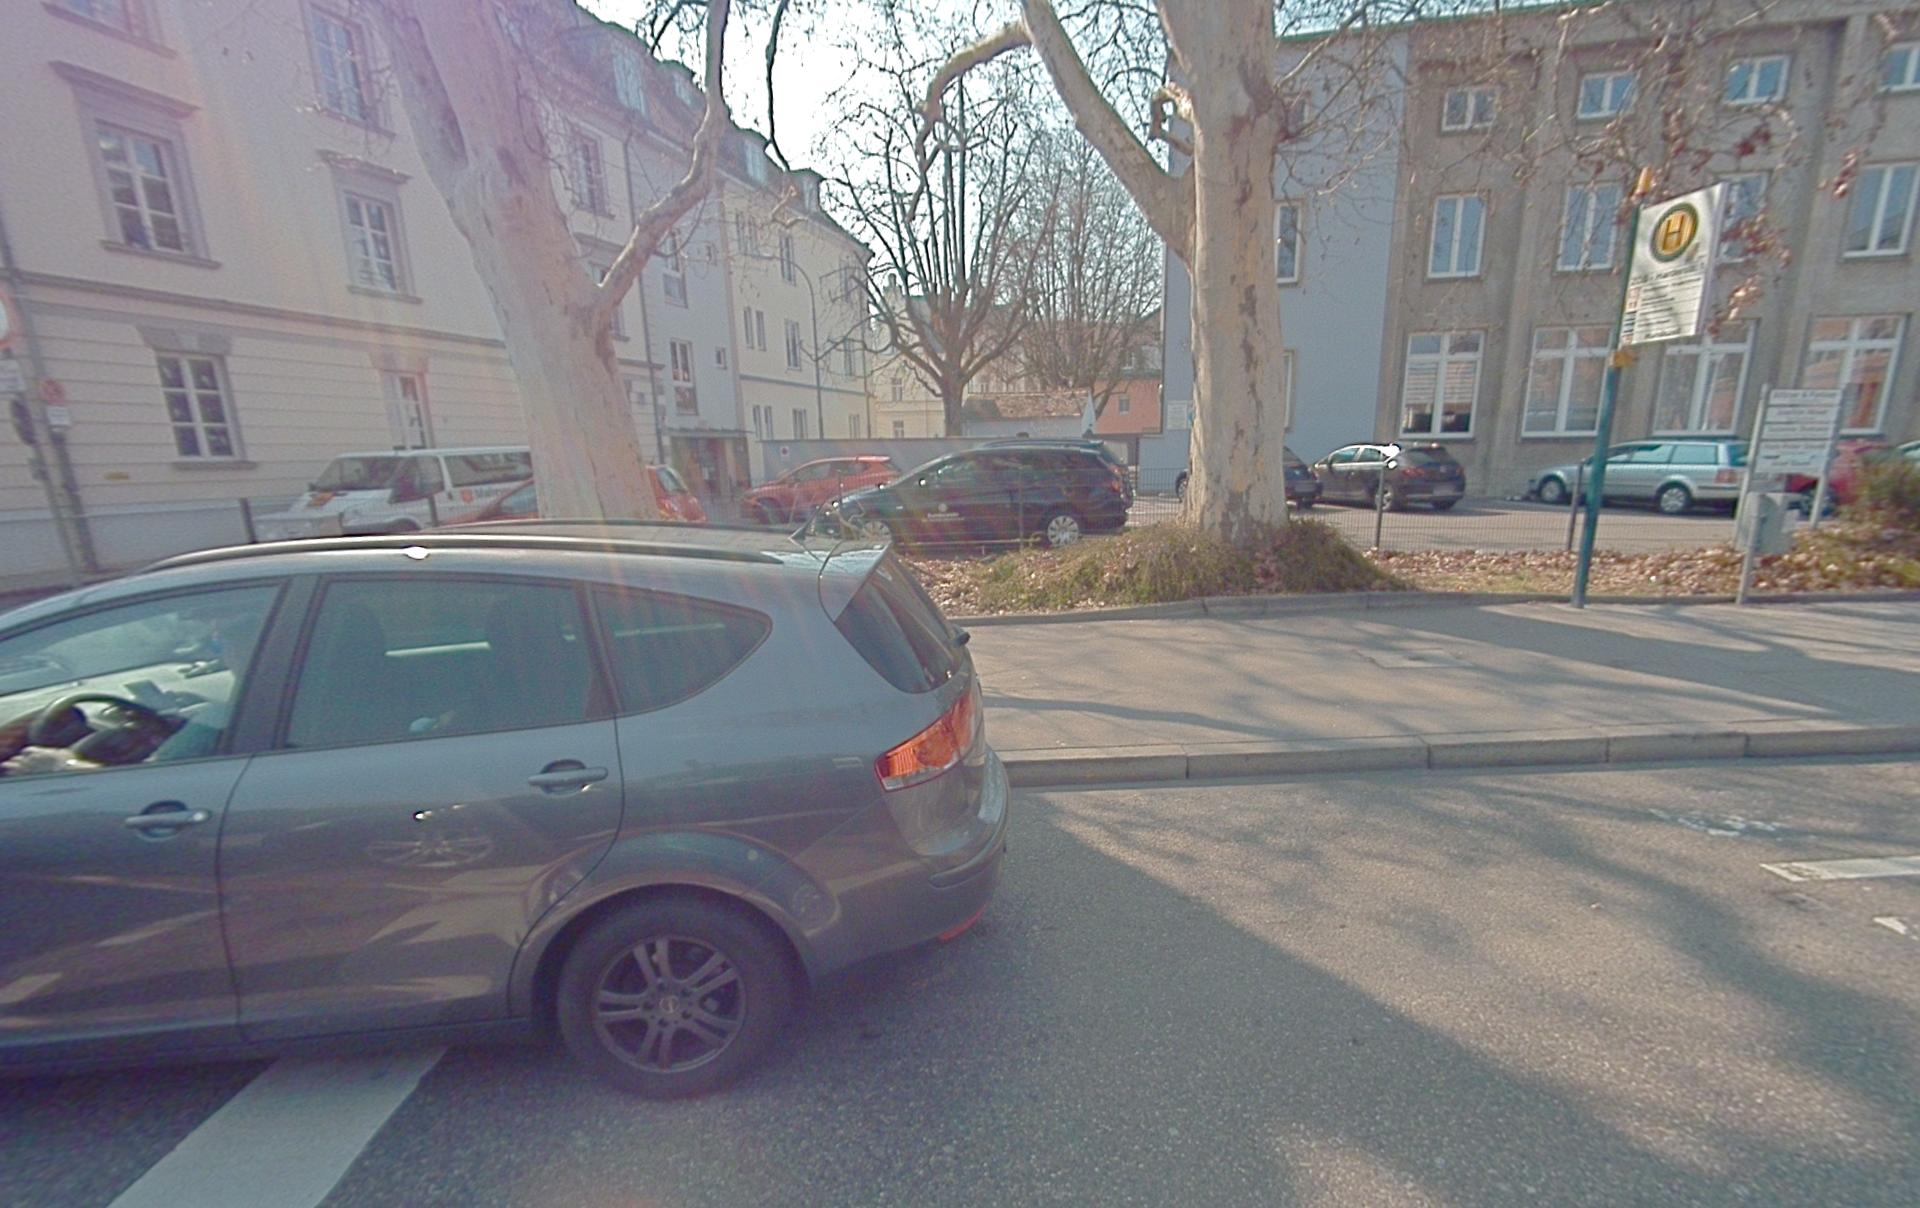car: (0, 518, 1011, 1099), (817, 438, 1133, 559), (253, 444, 536, 541), (1528, 438, 1821, 516), (452, 463, 707, 527), (742, 455, 904, 526), (1312, 441, 1466, 512), (1785, 437, 1920, 518), (1174, 444, 1320, 509), (646, 463, 707, 523), (1283, 445, 1320, 508)
traffic sign: (1615, 181, 1725, 348)
